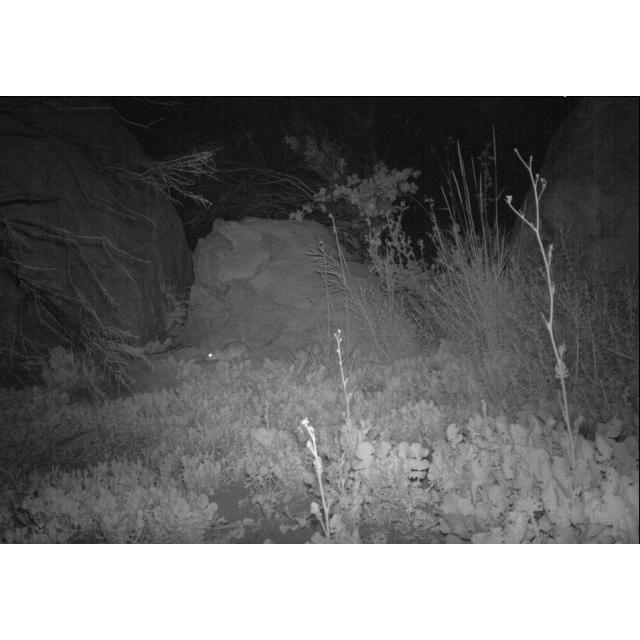animals: (202, 338, 282, 366)
